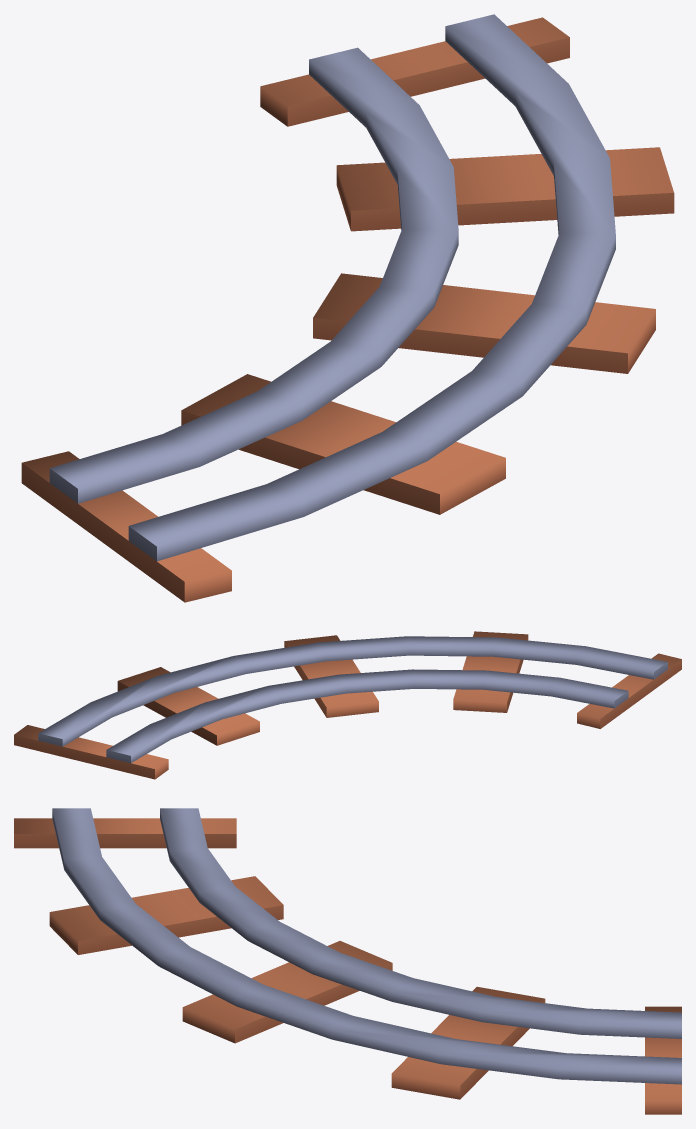
The model's file is trainset-rail-detailed-bend.glb.
The picture shows the model from 3 angles, top to bottom: view 1: azimuth 30°, elevation 25°; view 2: azimuth 150°, elevation 25°; view 3: azimuth 270°, elevation 25°; orthographic projection. The views are drawn at different scales.
Visible parts, largest first — view 1: trainset-rail-detailed-bend; view 2: trainset-rail-detailed-bend; view 3: trainset-rail-detailed-bend.
Boxes of the visible parts, x1,y1,x2,y2 form: trainset-rail-detailed-bend: (21,14,674,602); trainset-rail-detailed-bend: (14,631,681,779); trainset-rail-detailed-bend: (14,808,681,1114).
Size of the model in its own units: 0.9 by 0.0362 by 0.9.
